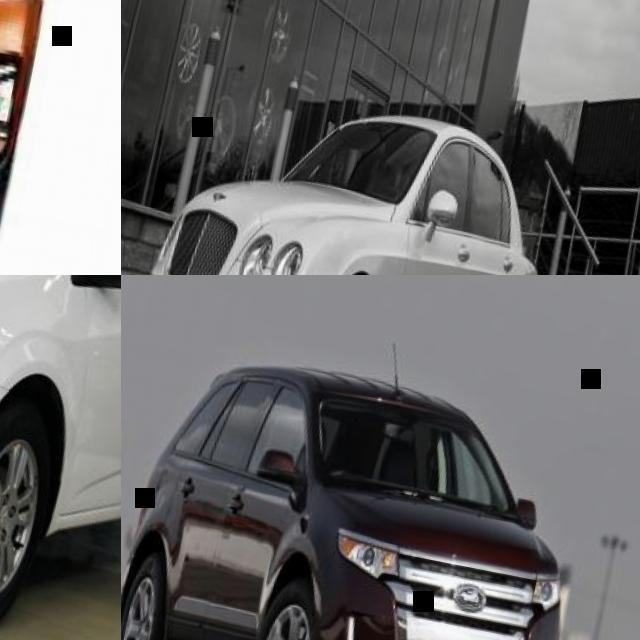car: (145, 335, 573, 640), (156, 102, 550, 270)
